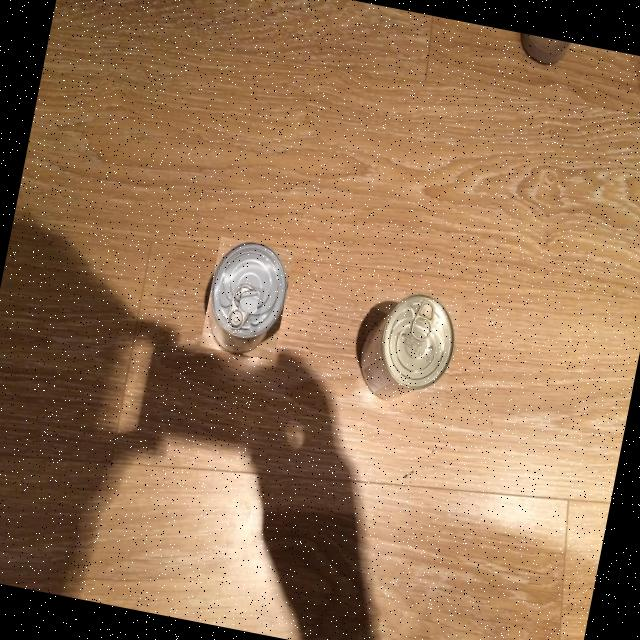Food Can: (362, 295, 455, 400), (209, 244, 287, 354)
Pop tab: (238, 287, 262, 334), (411, 302, 435, 342), (240, 291, 259, 313), (414, 319, 430, 340)
